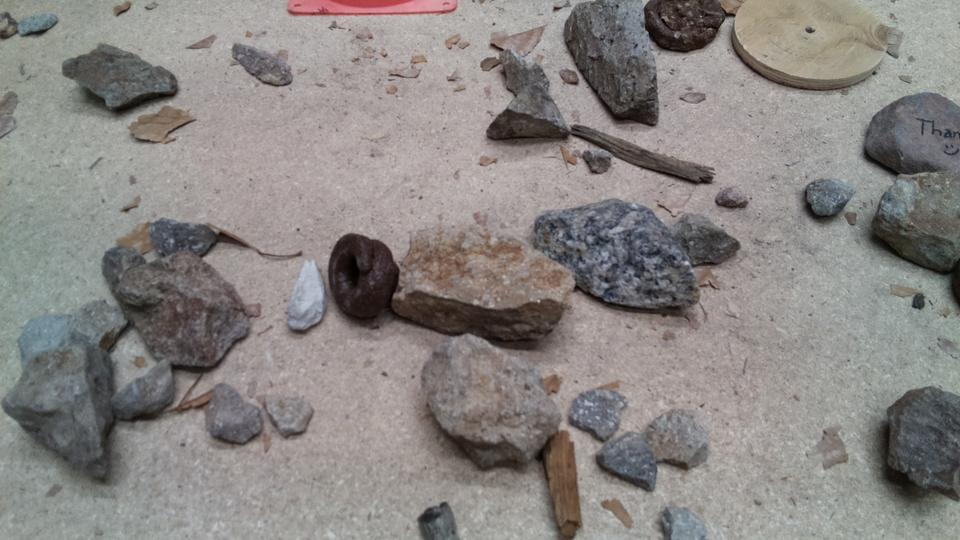poop: (326, 233, 398, 323), (642, 1, 727, 55)
